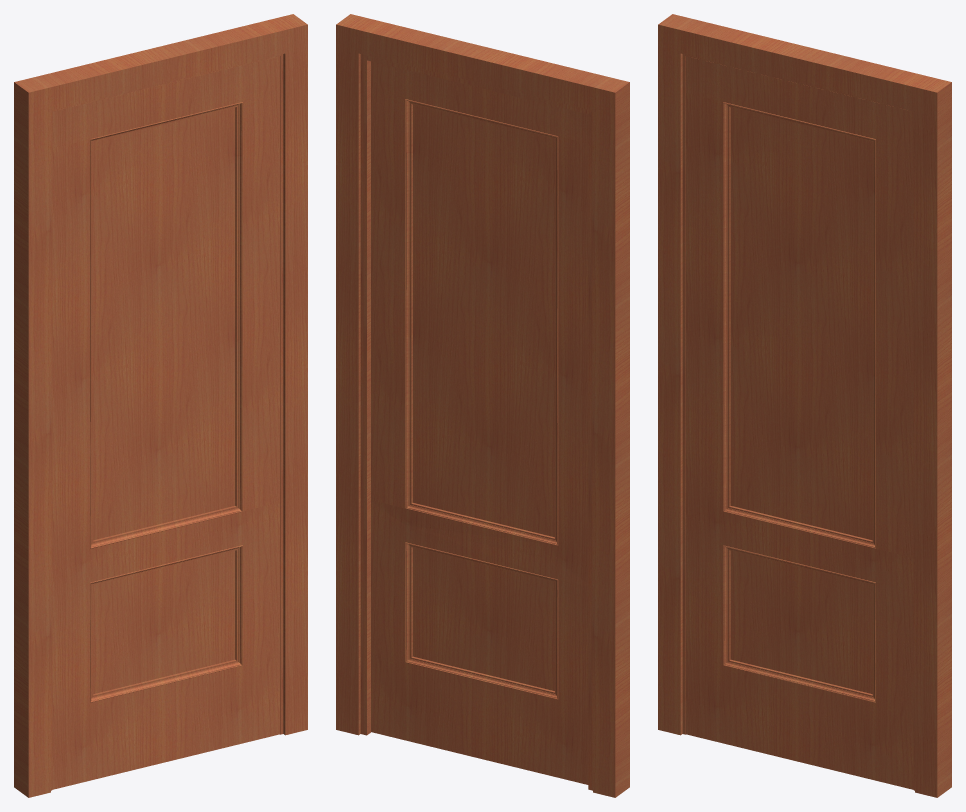
Rendered from puerta2.obj.
The picture shows the model from 3 angles, left to right: view 1: azimuth 30°, elevation 25°; view 2: azimuth 150°, elevation 25°; view 3: azimuth 330°, elevation 25°; orthographic projection.
Parts seen in each view (by area): view 1: door_Mesh, marc_Cube; view 2: door_Mesh, marc_Cube; view 3: door_Mesh, marc_Cube.
Boxes of the visible parts, box(x1,y1,x2,y2) form: door_Mesh: box(52, 56, 279, 789); marc_Cube: box(14, 14, 307, 797); door_Mesh: box(371, 61, 588, 784); marc_Cube: box(336, 14, 629, 797); door_Mesh: box(686, 56, 913, 789); marc_Cube: box(658, 14, 951, 797).
Size of the model in its own units: 87.38 by 211 by 7.85.
3 materials, 3 textured.
